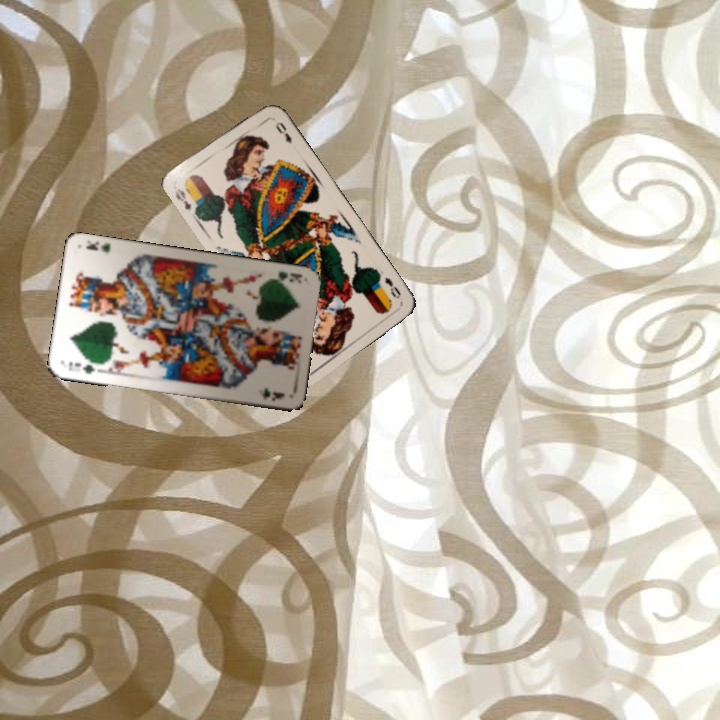EO: (380, 273, 404, 301), (171, 184, 194, 212)
GK: (265, 267, 305, 286), (64, 358, 97, 376)
